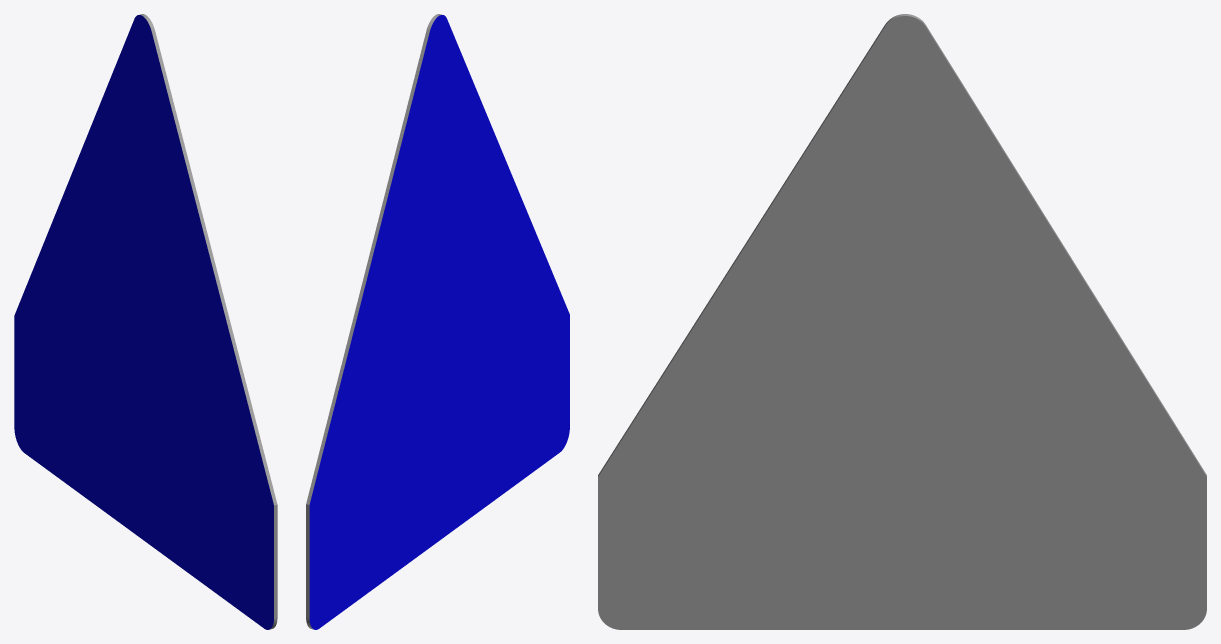
Rendered from RoadtSign_6type_A.FBX.
3 renders of one model, left to right at view 1: azimuth 30°, elevation 25°; view 2: azimuth 150°, elevation 25°; view 3: azimuth 270°, elevation 25°, orthographic. The views are drawn at different scales.
Parts seen in each view (by area): view 1: roadtsign_6type_b; view 2: roadtsign_6type_b; view 3: roadtsign_6type_b.
Boxes of the visible parts, x1=… form: roadtsign_6type_b: x1=14, y1=14, x2=277, y2=629; roadtsign_6type_b: x1=306, y1=14, x2=569, y2=629; roadtsign_6type_b: x1=598, y1=14, x2=1206, y2=629.
Bounding box in the file's own units: 0.5 × 72.32 × 65.
